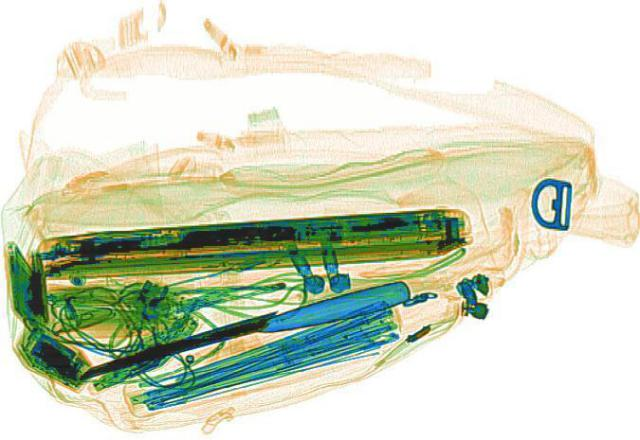Knife: (68, 275, 416, 386)
